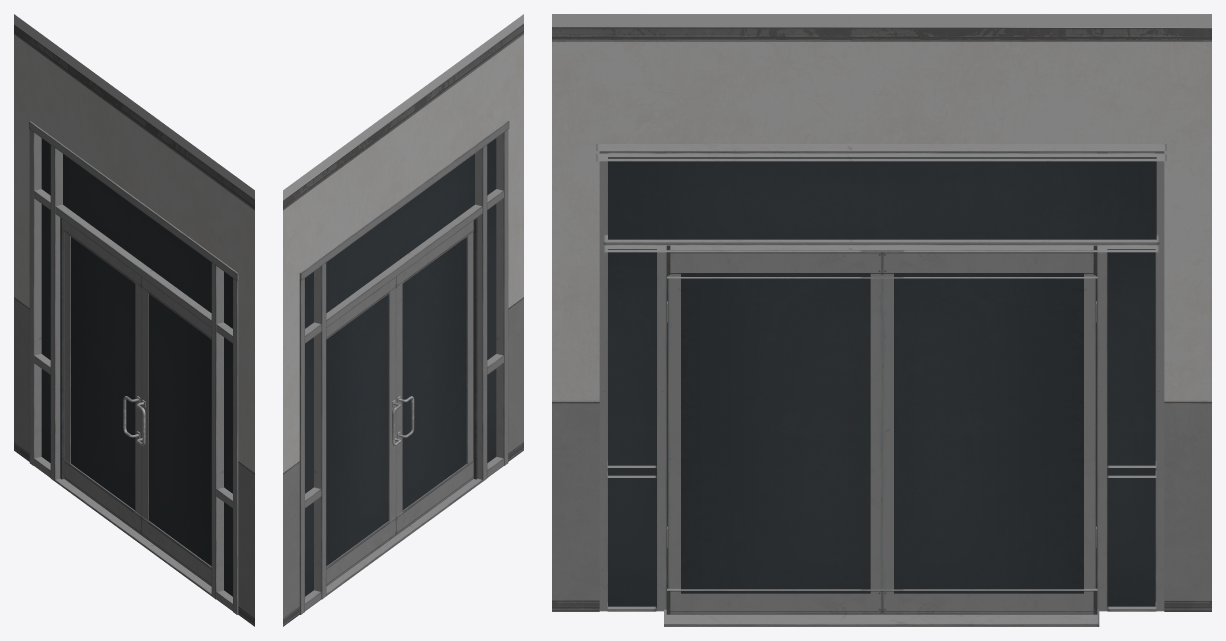
The model's file is HH_Hospital_DoubleDoor_02.fbx.
3 renders of one model, left to right at view 1: azimuth 30°, elevation 25°; view 2: azimuth 150°, elevation 25°; view 3: azimuth 270°, elevation 25°, orthographic. The views are drawn at different scales.
Visible parts, largest first — view 1: HH_Hospital_DoubleDoor_02_LOD0; view 2: HH_Hospital_DoubleDoor_02_LOD0; view 3: HH_Hospital_DoubleDoor_02_LOD0.
Part boxes in pixels (x1,y1,x2,y2): HH_Hospital_DoubleDoor_02_LOD0: (14, 14, 254, 626); HH_Hospital_DoubleDoor_02_LOD0: (283, 14, 523, 626); HH_Hospital_DoubleDoor_02_LOD0: (552, 14, 1211, 626).
Size of what is drawn, in the model's own units: 22.57 by 400 by 400.
